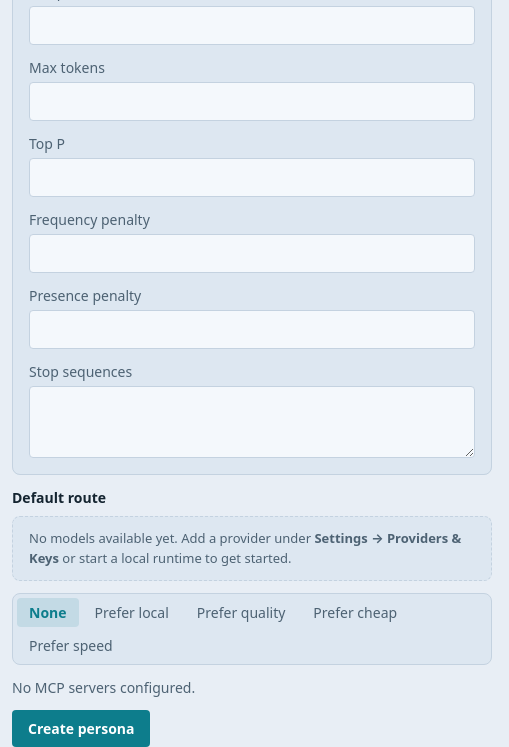
Scenario: agent editor › PersonaEditor rejects an empty name / system prompt
(page scrolled)
Click the button "Create persona" at (81, 728), box [12, 710, 150, 746]
(page scrolled)
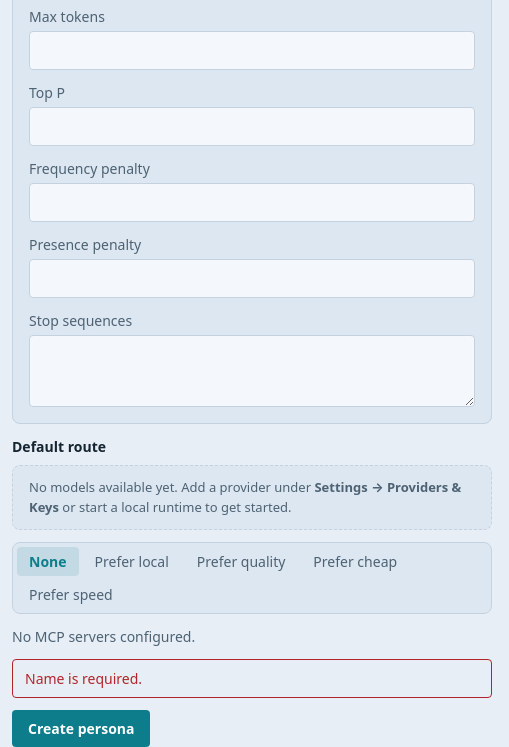
Result: the message shows "Name is required" at [25, 669, 142, 688]
